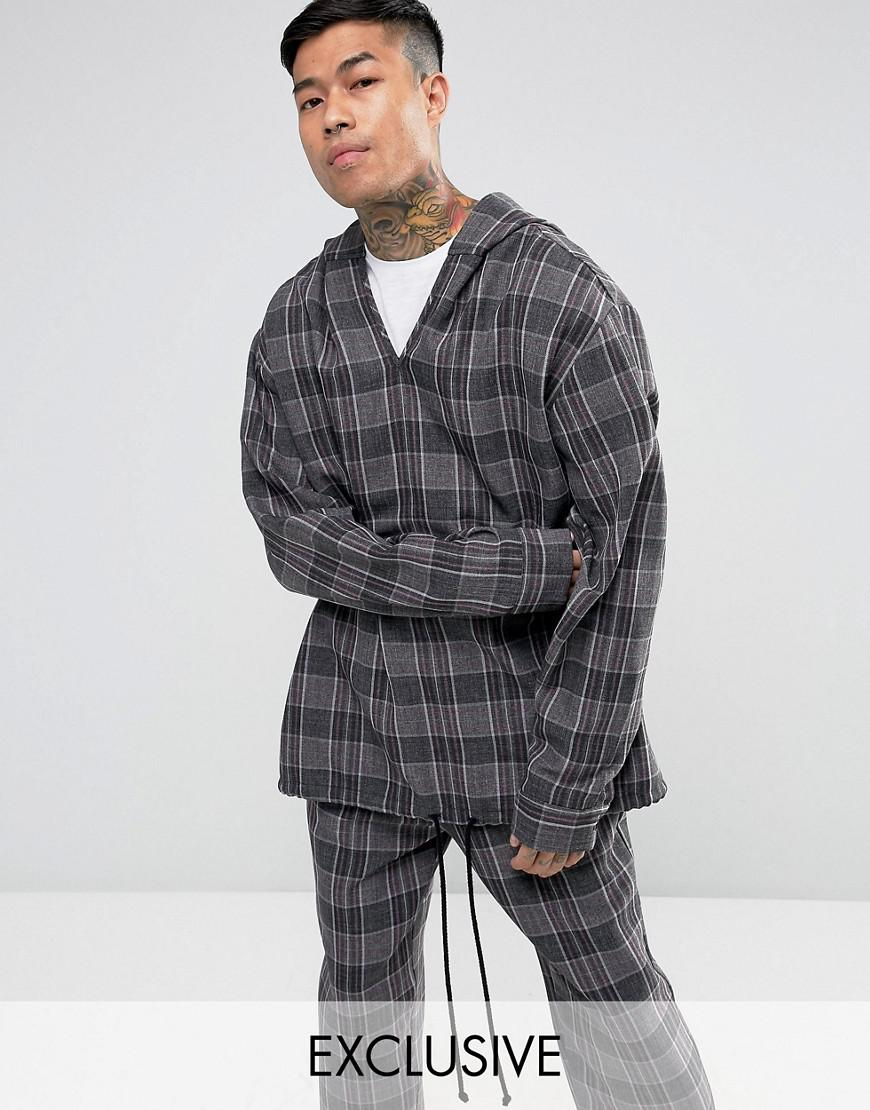teeshirt: (220, 195, 681, 840)
